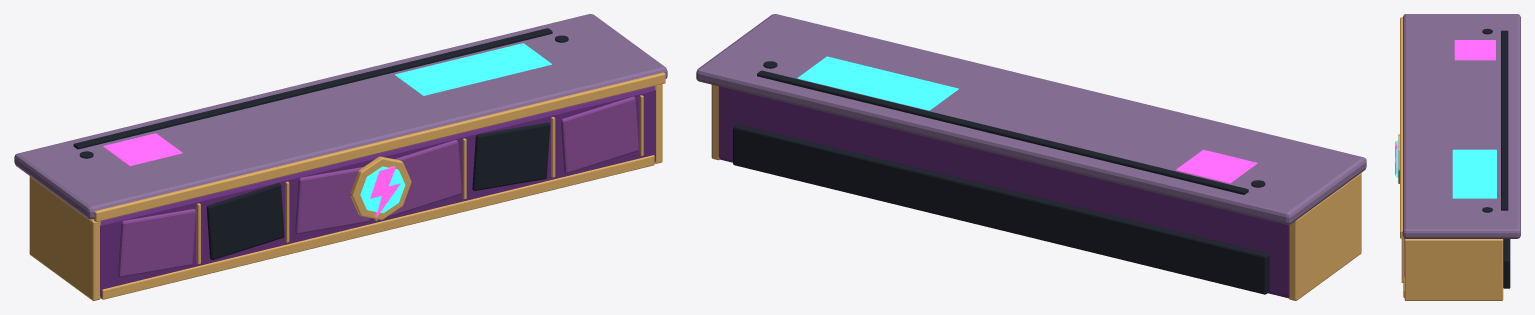
The model's file is reception_desk.glb.
3 views of the same model, side by side, from view 1: azimuth 30°, elevation 25°; view 2: azimuth 150°, elevation 25°; view 3: azimuth 270°, elevation 25° (orthographic). The views are drawn at different scales.
Visible parts, largest first — view 1: Desk_Countertop, Desk_MainCarcass, Trim_CounterFront, Trim_BaseFront, Trim_LeftCap, Front_Facet_06, Front_Facet_02, Front_Facet_01, Front_Facet_05, Computer_Bay_Inlay, Cable_Channel, Front_Facet_03 (+6 smaller); view 2: Desk_Countertop, Desk_RearKick_Recess, Desk_MainCarcass, Trim_LeftCap, Computer_Bay_Inlay, Cable_Channel, Phone_Bay_Inlay, Trim_RightCap; view 3: Desk_Countertop, Trim_RightCap, Computer_Bay_Inlay, Cable_Channel, Phone_Bay_Inlay, Trim_CounterFront, Desk_RearKick_Recess, Front_GoldDivider_06, Crest_CyanGem, Crest_GoldOctagon.
Boxes of the visible parts, x1,y1,x2,y2 form: Desk_Countertop: [14, 14, 667, 219]; Desk_MainCarcass: [100, 86, 655, 298]; Trim_CounterFront: [94, 72, 665, 221]; Trim_BaseFront: [101, 155, 654, 299]; Trim_LeftCap: [29, 176, 100, 300]; Front_Facet_06: [561, 96, 638, 173]; Front_Facet_02: [206, 183, 284, 259]; Front_Facet_01: [118, 209, 195, 277]; Front_Facet_05: [472, 122, 550, 190]; Computer_Bay_Inlay: [395, 43, 551, 95]; Cable_Channel: [73, 28, 552, 149]; Front_Facet_03: [295, 167, 369, 234]; Desk_Countertop: [696, 14, 1366, 224]; Desk_RearKick_Recess: [733, 124, 1269, 294]; Desk_MainCarcass: [718, 86, 1289, 298]; Trim_LeftCap: [1289, 173, 1361, 300]; Computer_Bay_Inlay: [797, 56, 958, 110]; Cable_Channel: [757, 70, 1248, 194]; Phone_Bay_Inlay: [1176, 149, 1257, 183]; Trim_RightCap: [711, 84, 719, 160]; Desk_Countertop: [1402, 14, 1520, 238]; Trim_RightCap: [1404, 238, 1503, 300]; Computer_Bay_Inlay: [1452, 149, 1496, 198]; Cable_Channel: [1501, 30, 1508, 210]; Phone_Bay_Inlay: [1454, 40, 1495, 60]; Trim_CounterFront: [1400, 17, 1403, 238]; Desk_RearKick_Recess: [1503, 239, 1510, 288]; Front_GoldDivider_06: [1401, 238, 1404, 282]; Crest_CyanGem: [1396, 140, 1398, 177]; Crest_GoldOctagon: [1398, 134, 1399, 183].
Bounding box in the file's own units: 7.2 × 1.16 × 1.76.
